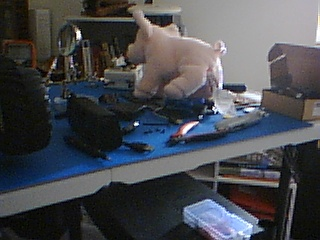piggy: (124, 9, 228, 102)
